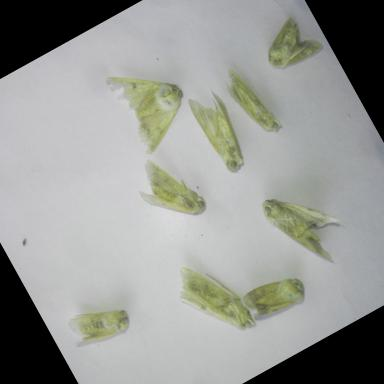abw: (98, 43, 206, 161), (254, 166, 360, 283), (164, 243, 262, 355), (122, 138, 214, 238), (180, 80, 259, 180), (214, 56, 289, 148), (250, 4, 329, 80), (58, 287, 140, 360), (237, 262, 316, 332)
